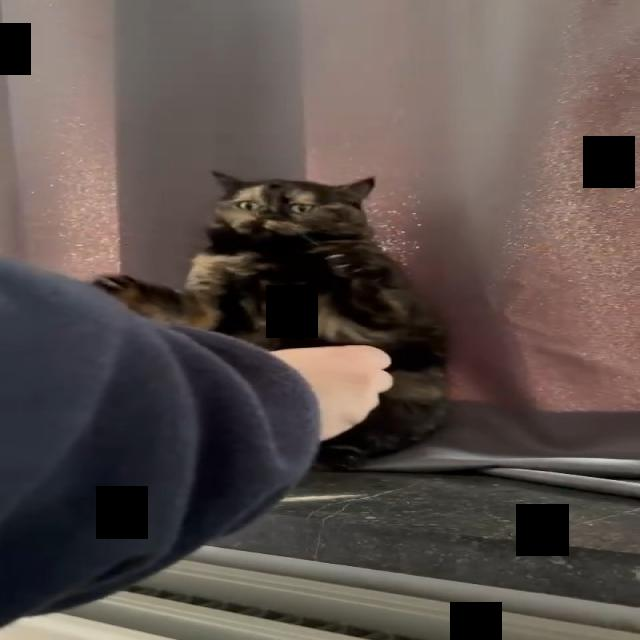authorized: (90, 169, 450, 470)
